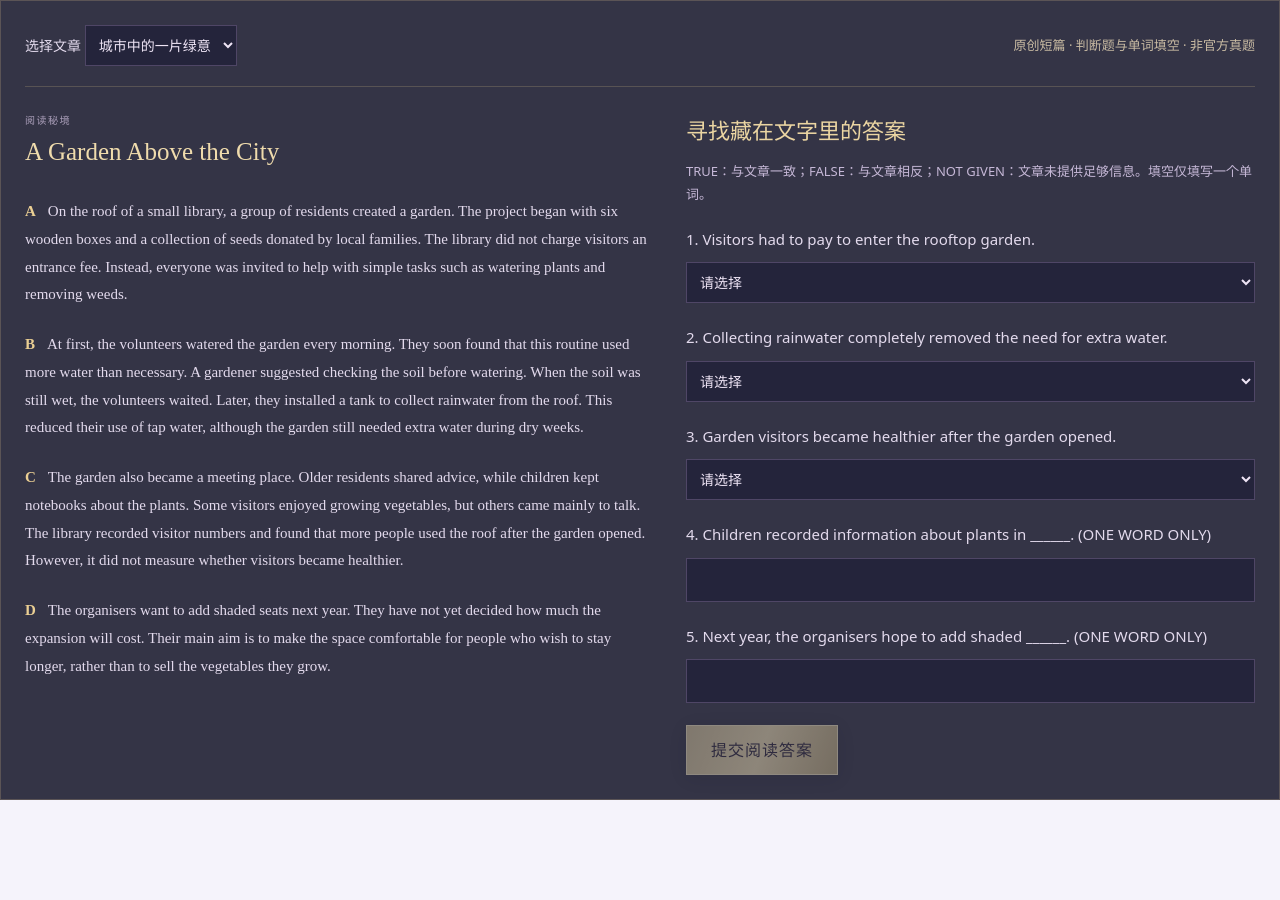
Scenario: public original reading practice › retries a failed save using the same record id
Select "FALSE" in the dropdown named "阅读答案 1": point(970, 283) [686, 262, 1255, 303]
Select "FALSE" in the dropdown named "阅读答案 2": point(970, 381) [686, 361, 1255, 402]
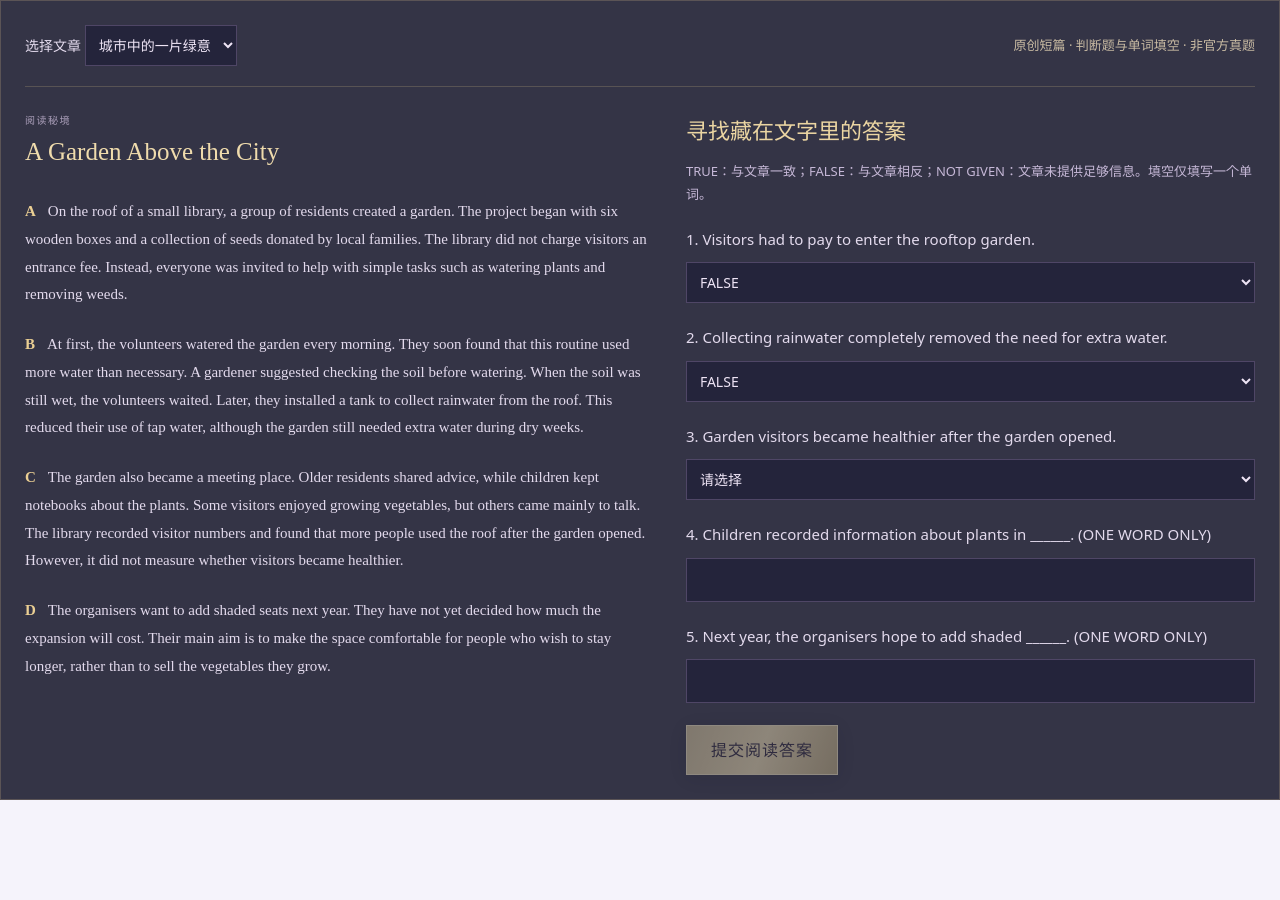
Select "FALSE" in the dropdown labelled "3. Garden visitors became healthier after the garden opened.": point(970, 480) [686, 459, 1255, 500]
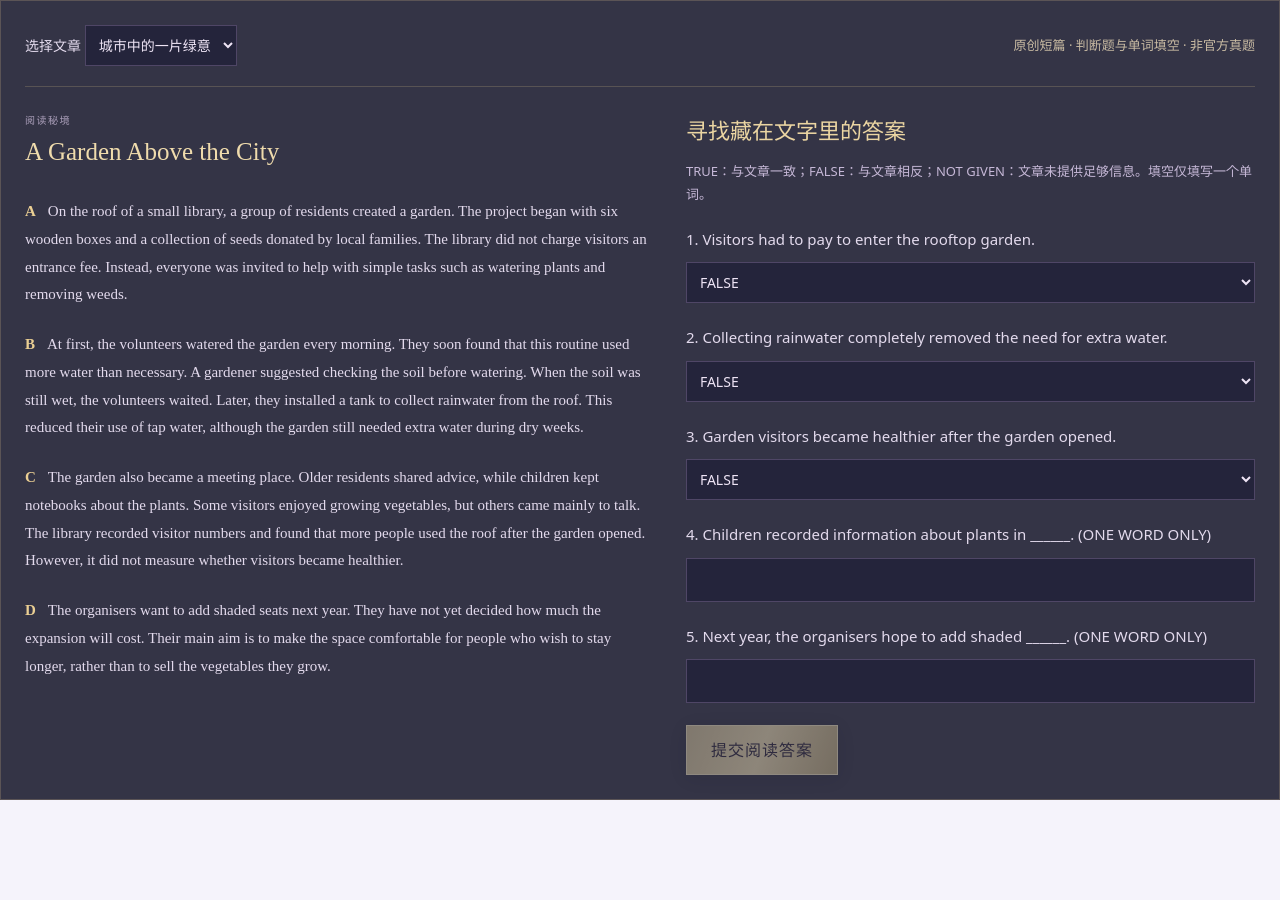
In the field named "阅读答案 4": point(970, 580) [686, 558, 1255, 602], type "word"
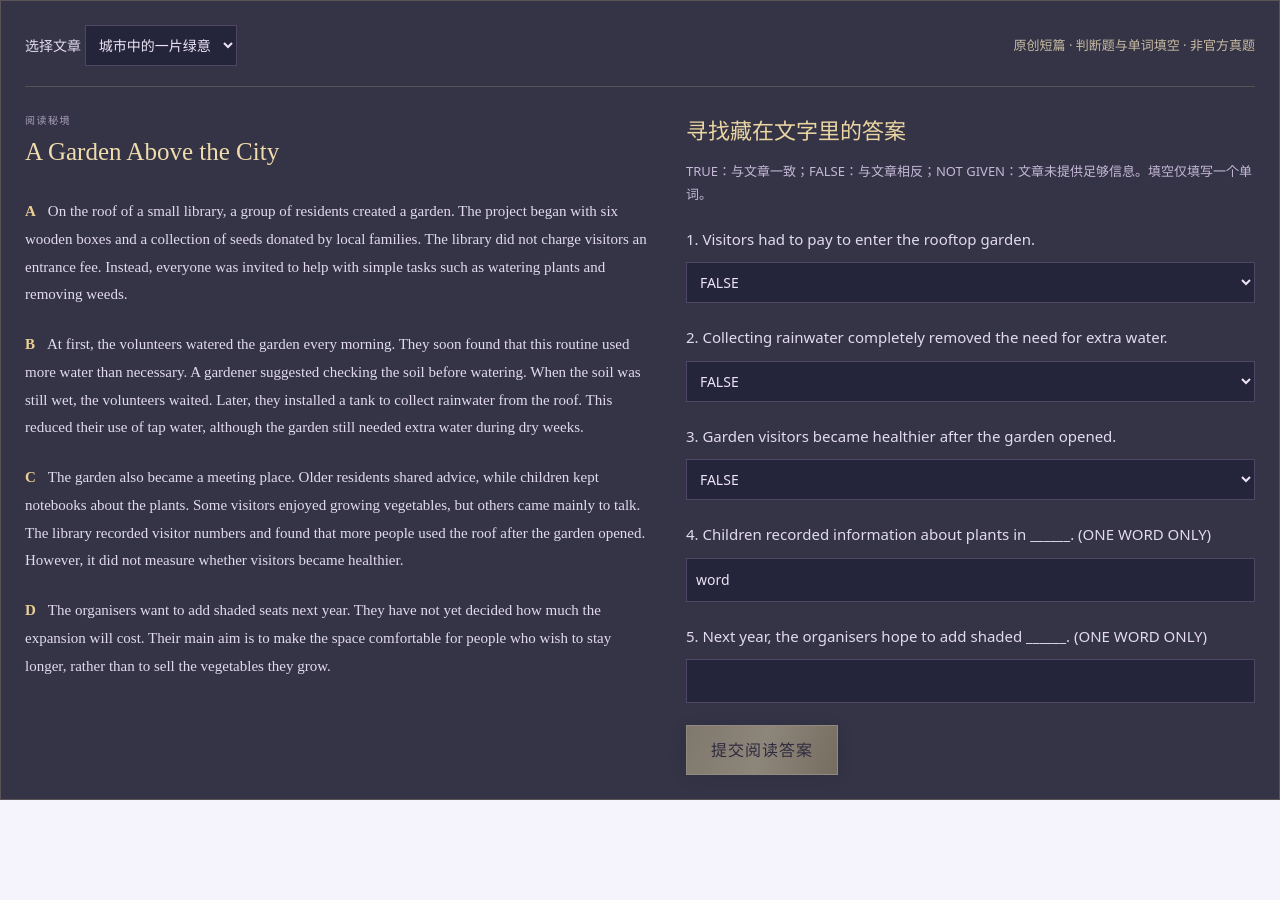
In the field named "阅读答案 5": point(970, 681) [686, 659, 1255, 703], type "word"
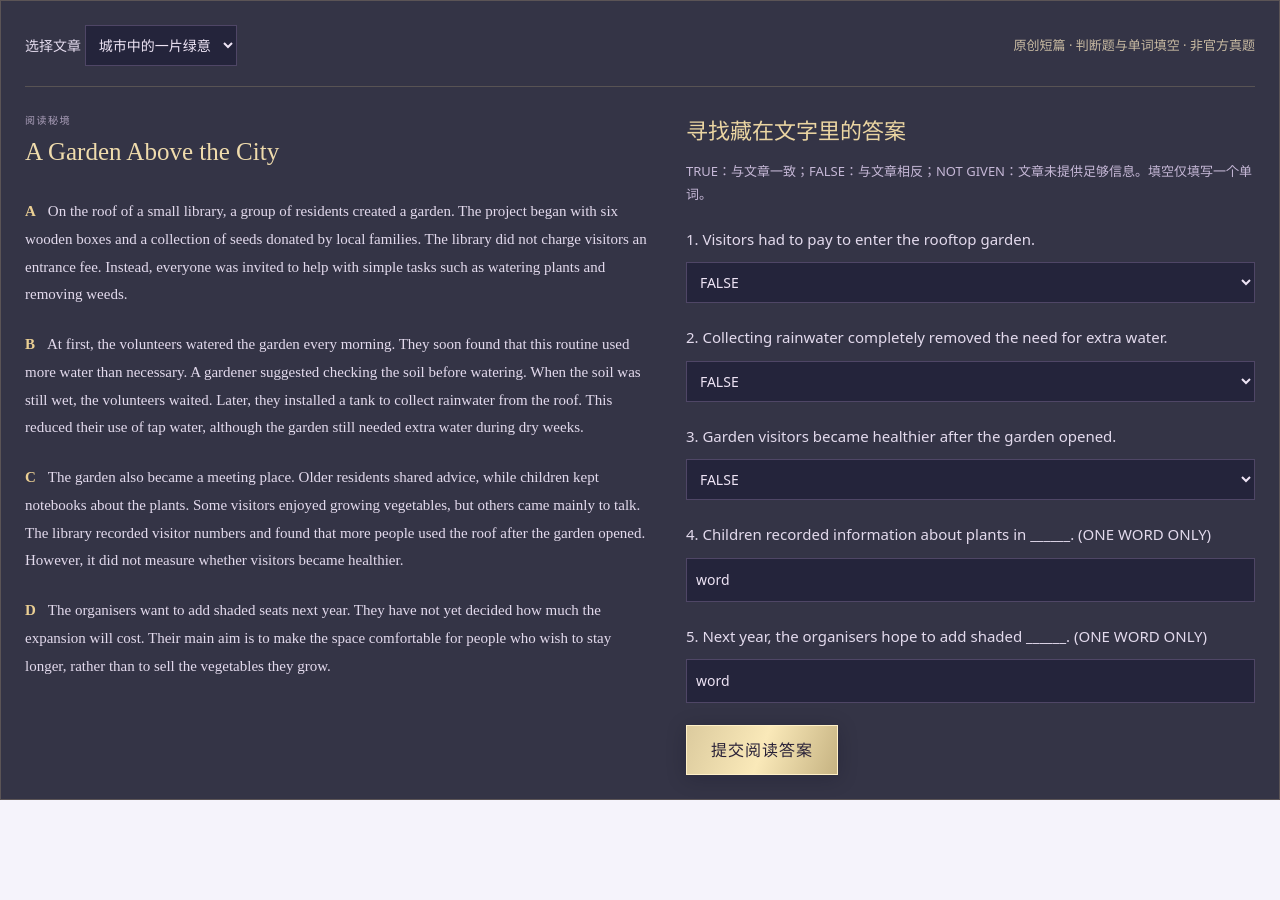
Click the button "提交阅读答案": point(762, 750) [686, 725, 838, 775]
(page scrolled)
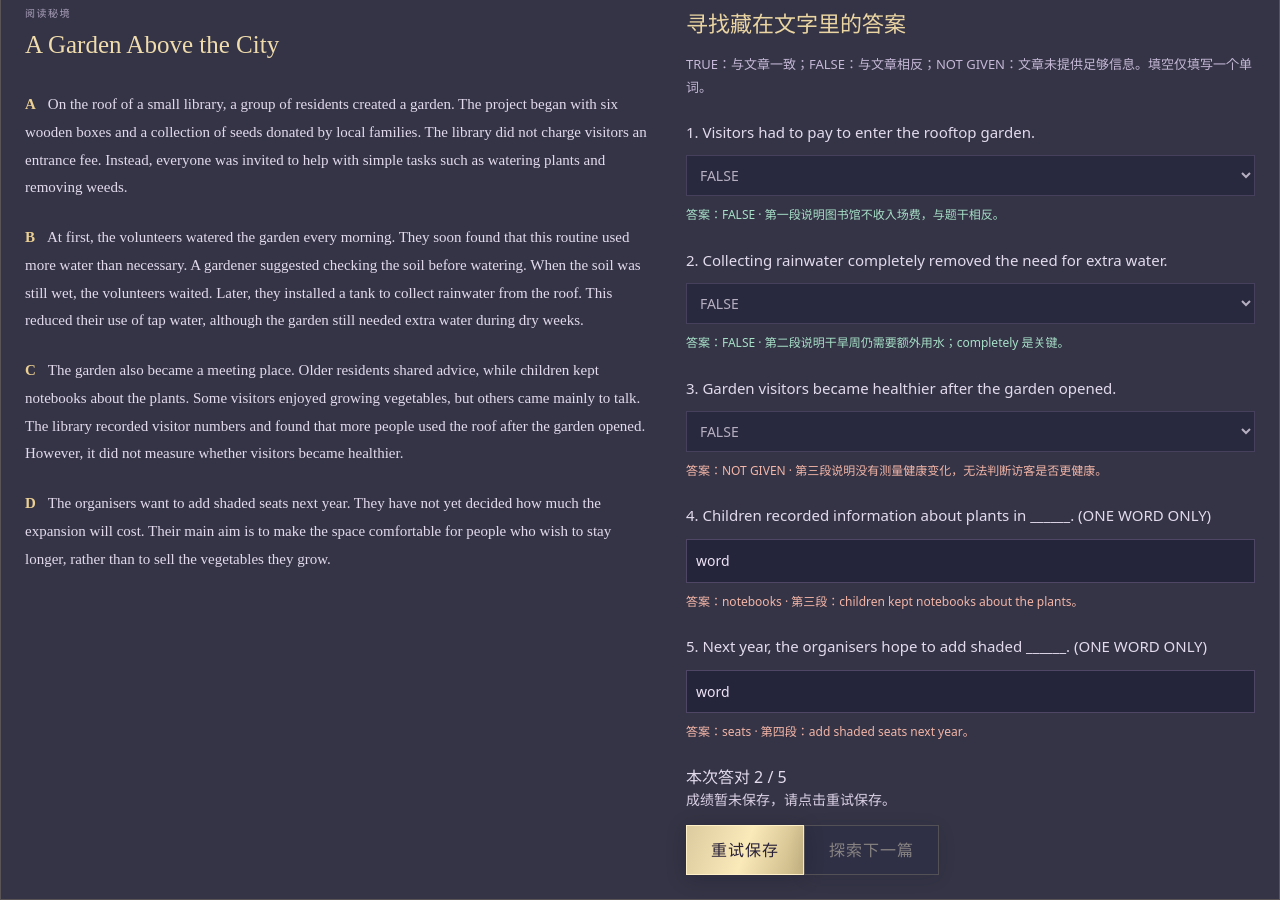
Click the button "重试保存": point(745, 850) [686, 825, 804, 875]
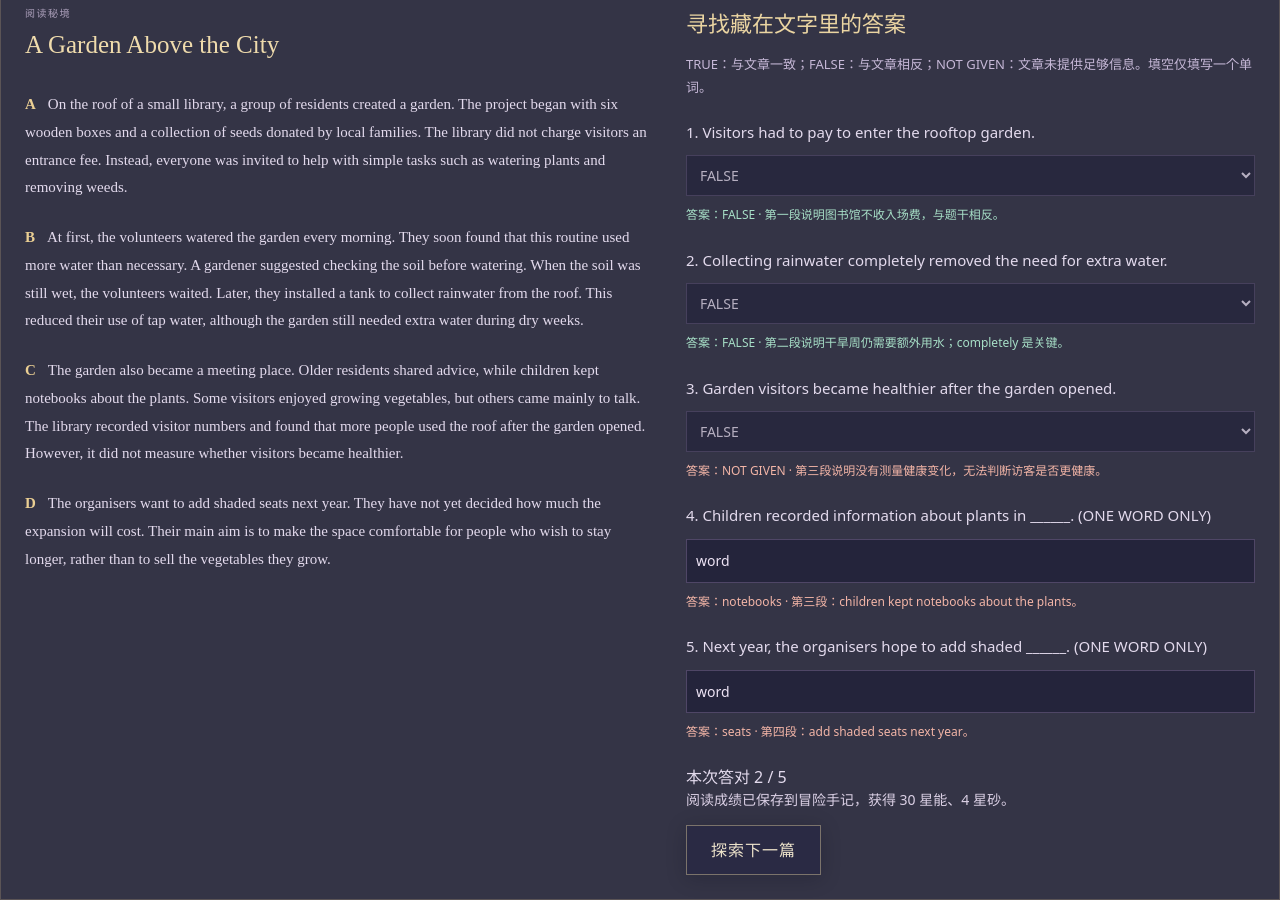
Result: the message shows "已保存" at [686, 790, 1015, 809]
